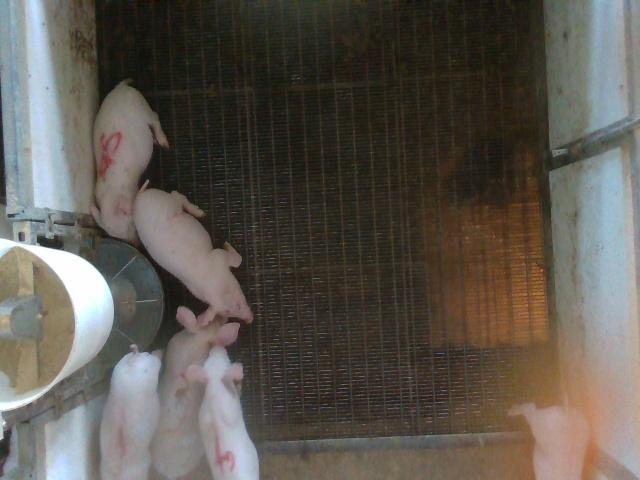pig-1: (100, 345, 162, 479)
pig-3: (151, 306, 239, 478)
pig-4: (186, 346, 258, 479)
pig-5: (91, 80, 169, 244)
